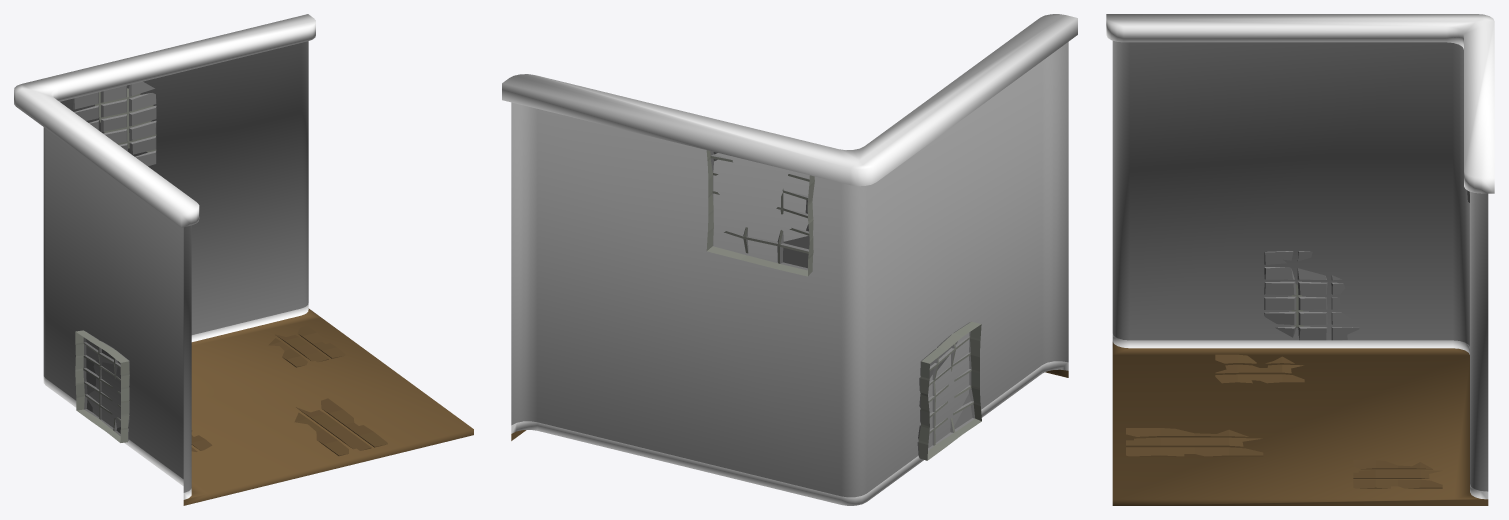
The picture shows the model from 3 angles, left to right: view 1: azimuth 30°, elevation 25°; view 2: azimuth 150°, elevation 25°; view 3: azimuth 270°, elevation 25°; orthographic projection. The views are drawn at different scales.
Parts seen in each view (by area): view 1: 6 BASE; view 2: 6 BASE; view 3: 6 BASE.
Boxes of the visible parts, x1=… form: 6 BASE: x1=14, y1=14, x2=473, y2=505; 6 BASE: x1=502, y1=14, x2=1077, y2=505; 6 BASE: x1=1106, y1=14, x2=1494, y2=505.
Bounding box in the file's own units: 213 × 200 × 213.
